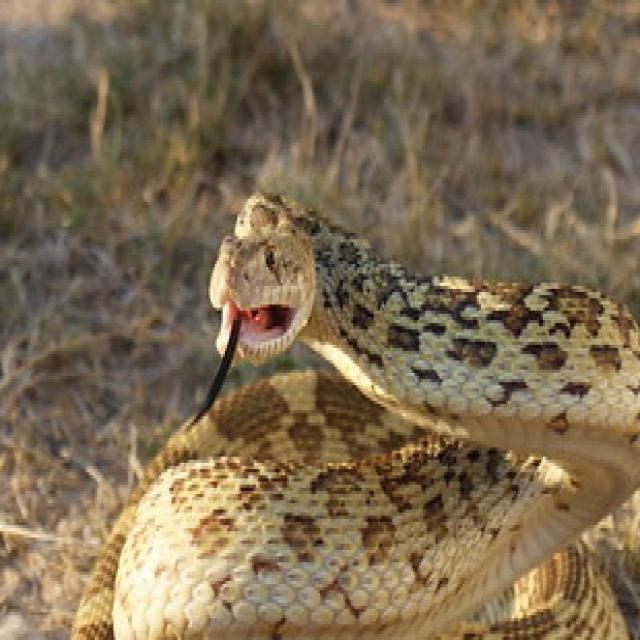Snake: (0, 183, 640, 640)
